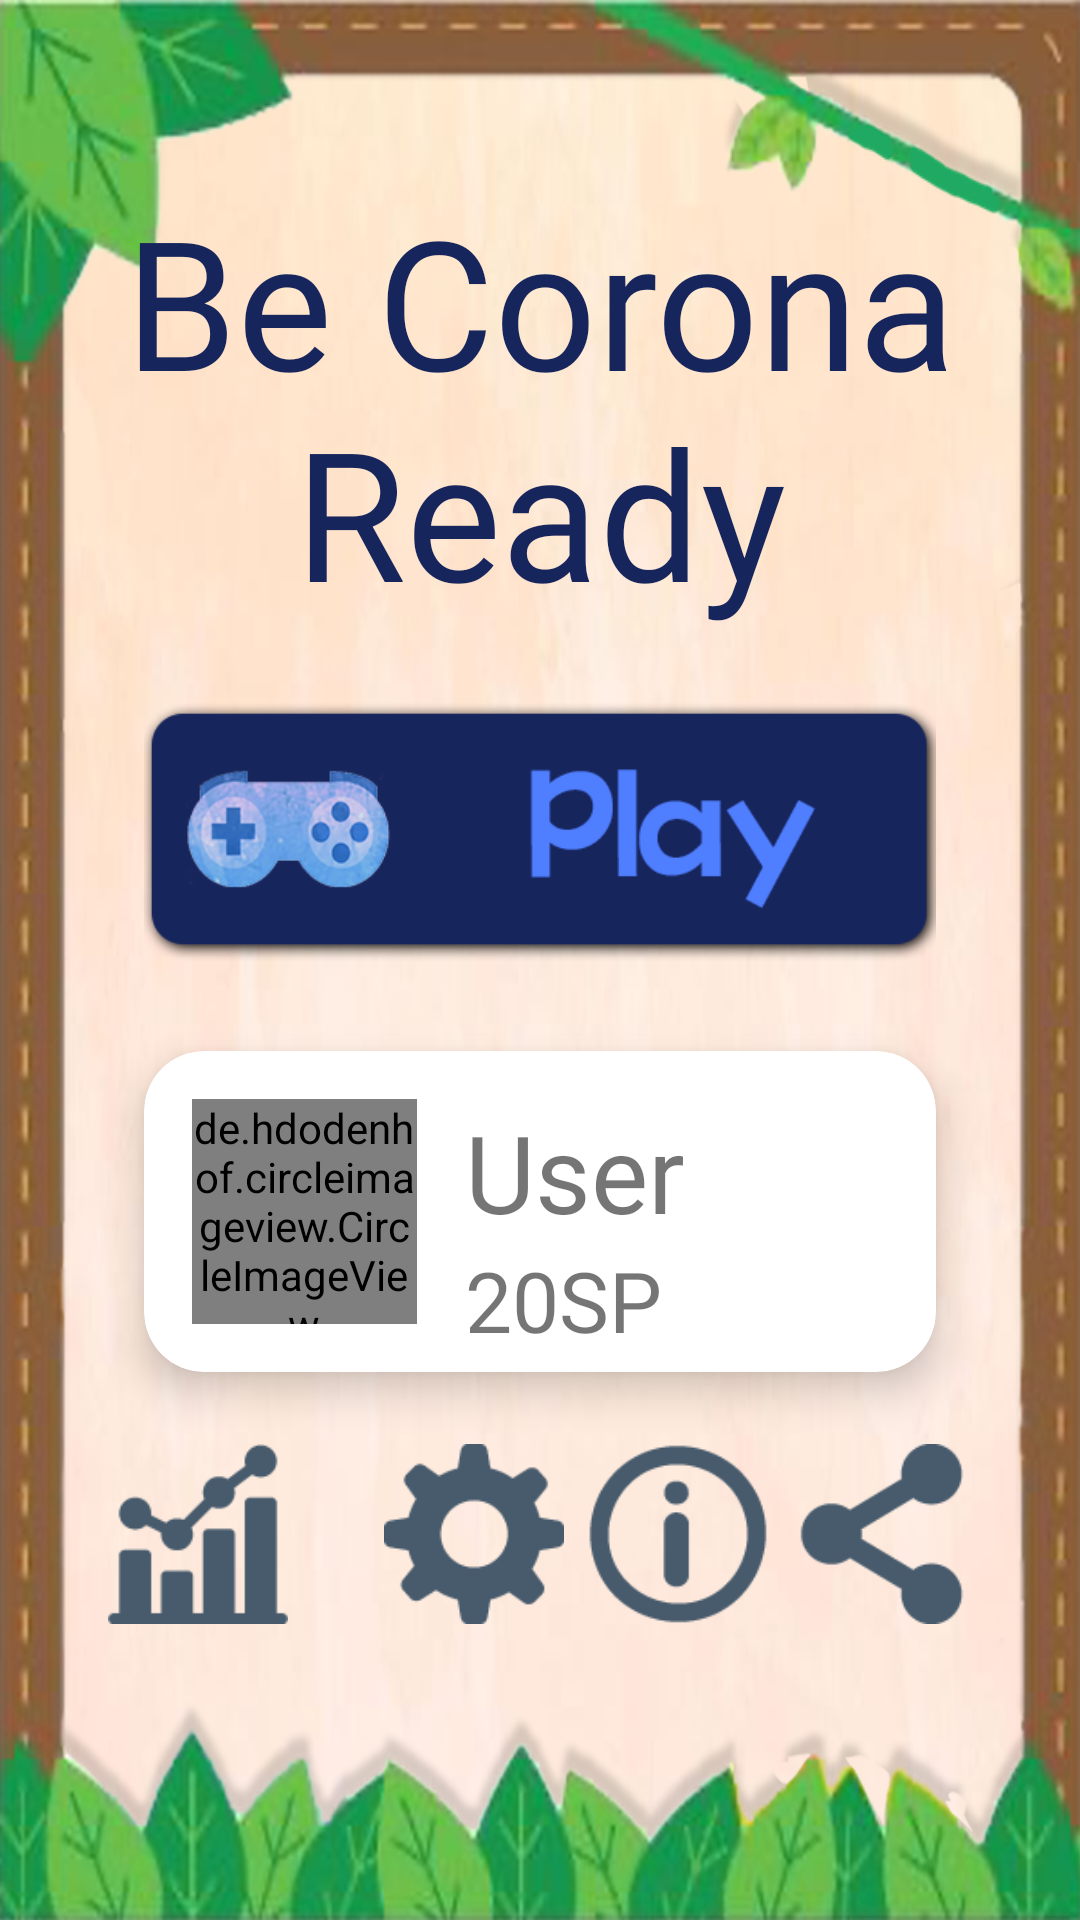

Screen size 1080px×1920px. Icon name, then its box in pixels as (x1, y1, x2, y2):
info: (589, 1445, 767, 1623)
settings: (384, 1444, 564, 1624)
share: (800, 1444, 963, 1624)
tracker: (108, 1444, 288, 1624)
